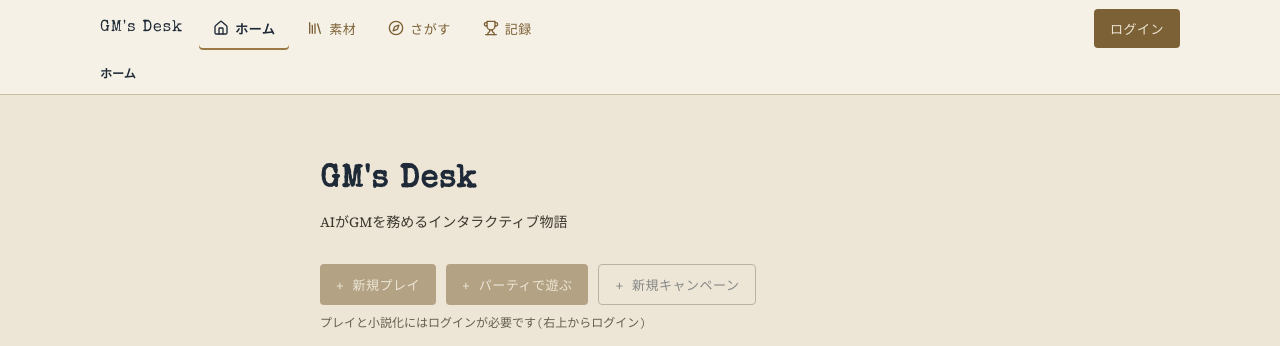
it: App › navigates to the public gallery without requiring login
The width and height of the screenshot is (1280, 346).
Click the button "さがす".
click(419, 28)  # box [374, 6, 465, 50]
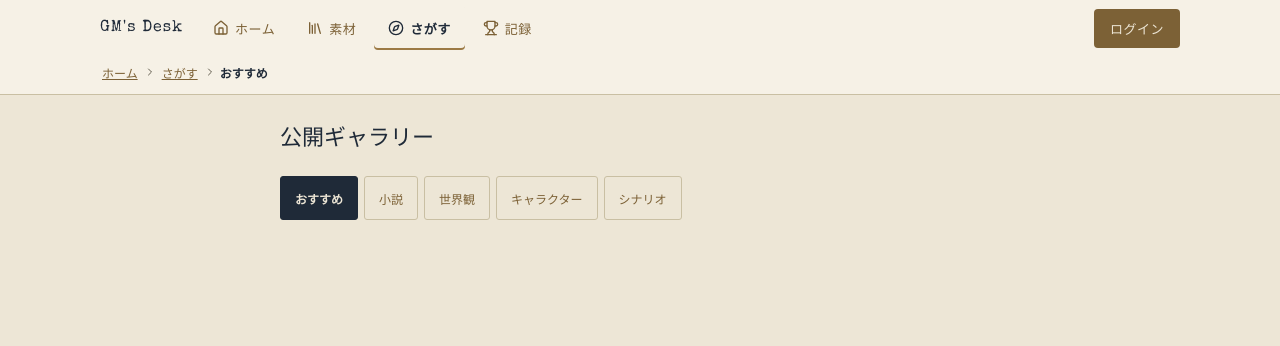
Click the button "小説".
click(391, 198)  # box [364, 176, 418, 220]
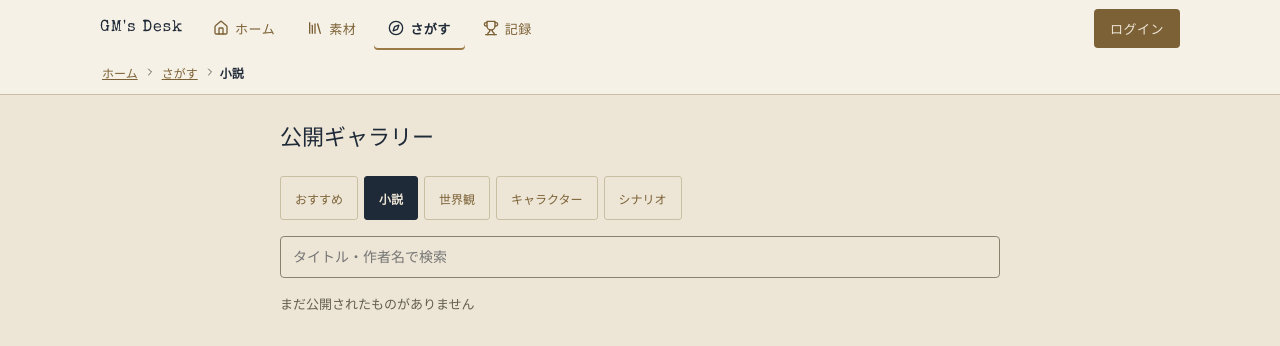
Check: the text "まだ公開されたものがありません" is shown, box [280, 296, 475, 313]
